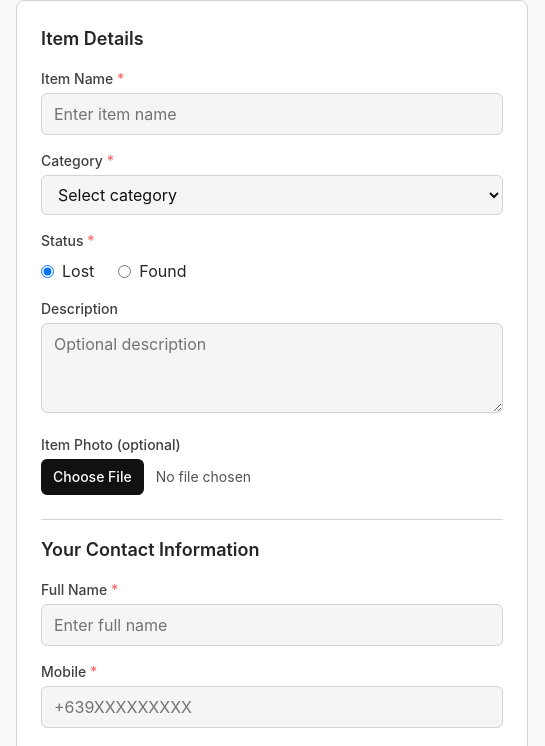
Scenario: LogItemForm › shows lost-item suggestion when logging found with matching name
The image size is (545, 746).
Select "Found" status
Click the radio button labelled "Found". click: coordinates (125, 271)
box: x1=118 y1=264 x2=131 y2=278
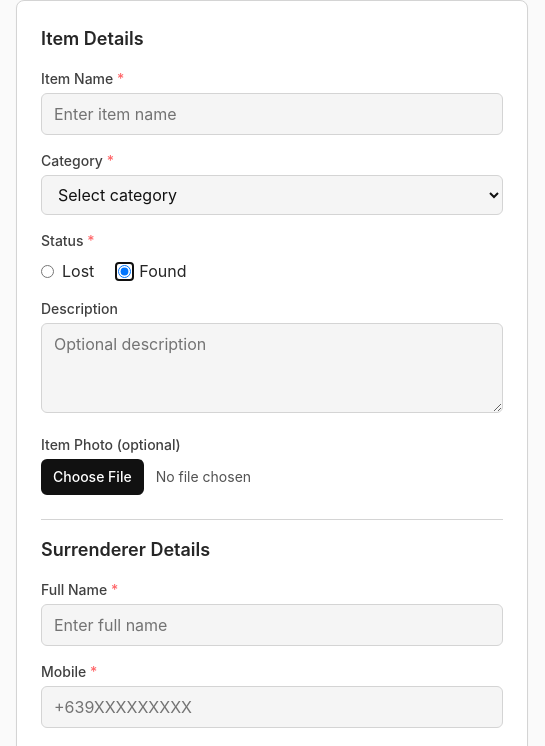
Type "Water" into the field labelled "Item Name *". click: coordinates (272, 114)
box: x1=41 y1=93 x2=503 y2=135
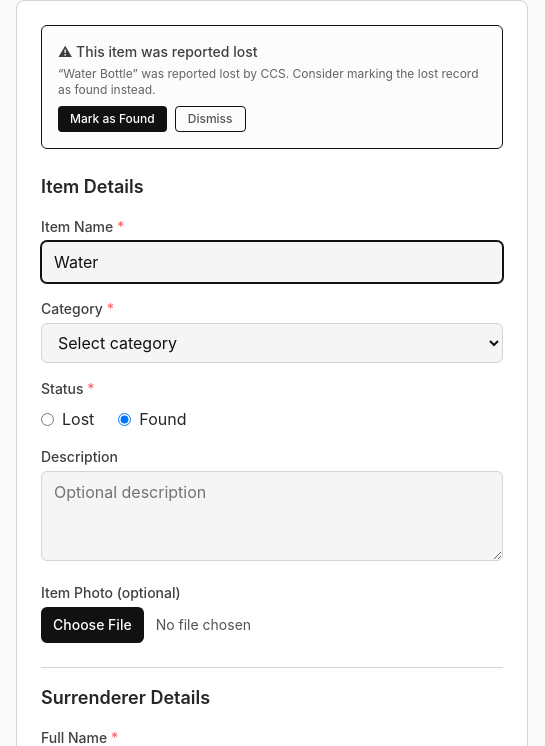
Result: the message is shown at x1=41 y1=25 x2=503 y2=149
Result: the text "⚠ This item was reported lost" is shown at x1=58 y1=43 x2=258 y2=60
Result: the text "Water Bottle" is shown at x1=63 y1=66 x2=132 y2=81
